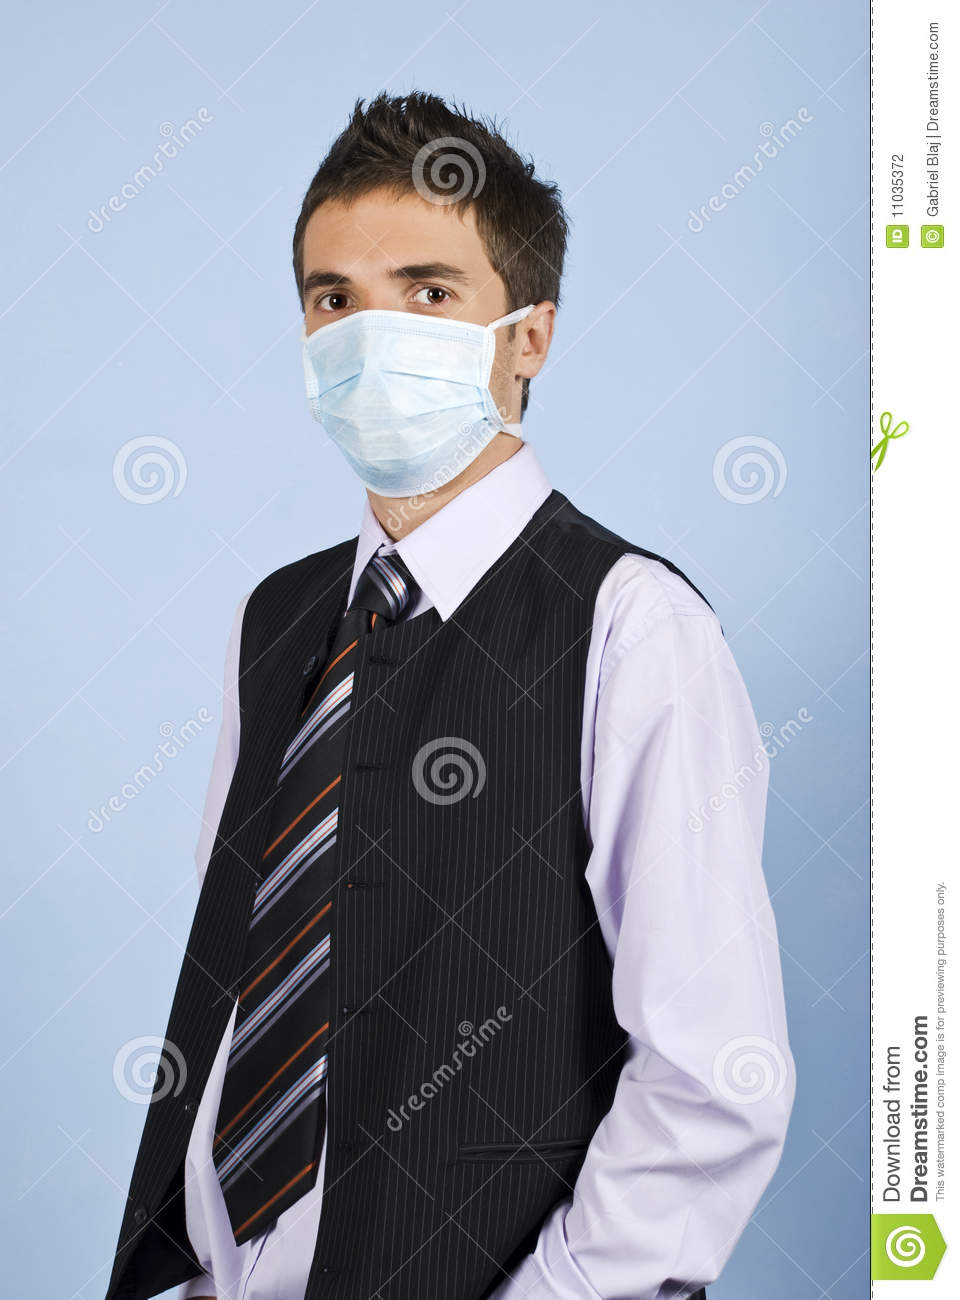mask: (304, 320, 504, 489)
